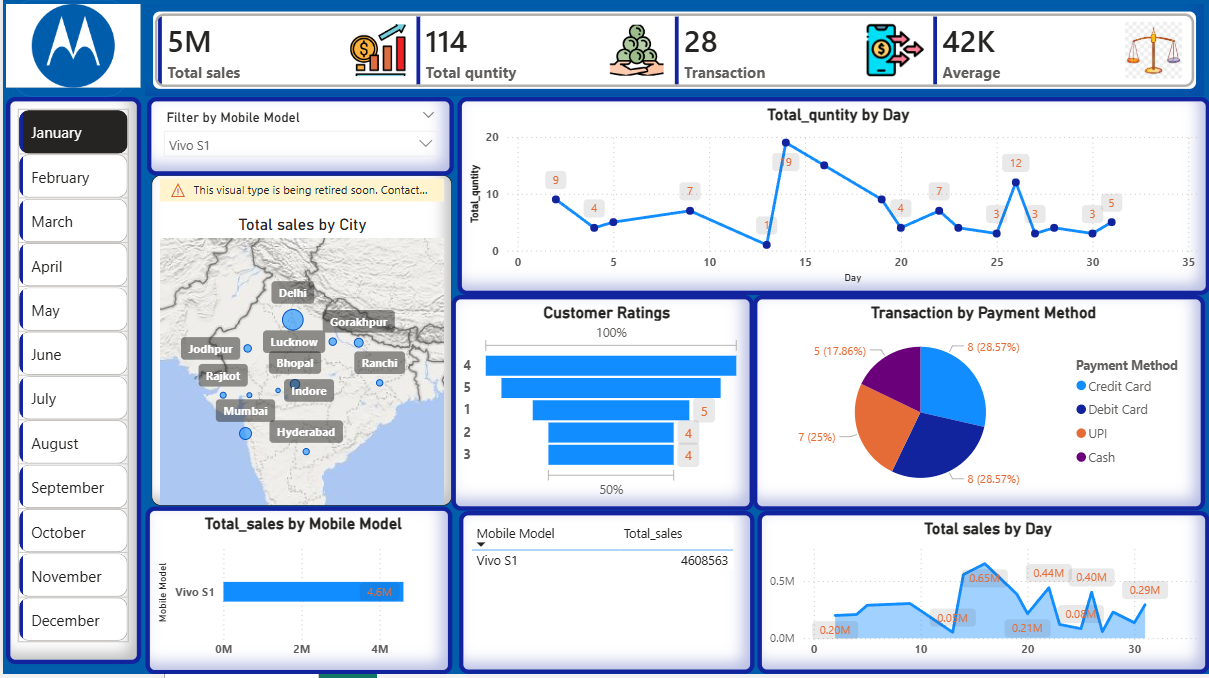

This screenshot's page, from the dashboard's own definition file:
{"tool":"powerbi","page":{"name":"mobile sale","canvas":[1280,720],"ordinal":0},"visuals":[{"type":"shape","box":[11.5,4.9,119.7,103.3],"z":0},{"type":"image","box":[3.3,9.8,142.6,88.5],"z":1000},{"type":"advancedSlicerVisual","fields":{"Values":["sales.Dates.Variation.Date Hierarchy.Month"]},"box":[3.2,108.2,143.2,601.3],"z":2000},{"type":"cardVisual","fields":{"Data":["sales.Total_sales","sales.Total_quntity","sales.Transaction","sales.Average"]},"box":[150.8,10.2,1122,98.3],"z":3000},{"type":"map","fields":{"Size":["sales.Total_sales"],"Category":["sales.City"]},"box":[157.6,191.5,318.6,350.8],"z":4000},{"type":"lineChart","fields":{"Category":["sales.Dates.Variation.Date Hierarchy.Month","sales.Dates.Variation.Date Hierarchy.Day"],"Y":["sales.Total_quntity"]},"box":[481.4,108.5,798.3,210.2],"z":5000},{"type":"clusteredBarChart","fields":{"Category":["sales.Mobile Model"],"Y":["sales.Total_sales"]},"box":[150.8,542.4,325.4,178],"z":6000},{"type":"pieChart","fields":{"Category":["sales.Payment Method"],"Y":["sales.Transaction"]},"box":[794.9,318.6,479.7,228.8],"z":7000},{"type":"funnel","title":"Customer Ratings ","fields":{"Category":["sales.Customer Ratings"],"Y":["CountNonNull(sales.Customer Ratings)"]},"box":[476.3,318.6,320.3,228.8],"z":8000},{"type":"areaChart","title":"Total sales by Day ","fields":{"Category":["sales.Dates.Variation.Date Hierarchy.Day"],"Y":["sales.Total_sales"]},"box":[800,547.5,479.7,172.9],"z":9000},{"type":"tableEx","fields":{"Values":["sales.Mobile Model","sales.Total_sales"]},"box":[483.1,547.5,313.6,172.9],"z":10000},{"type":"slicer","fields":{"Values":["sales.Mobile Model"]},"box":[152.5,108.5,325.4,83.1],"z":11000}]}

Visuals, with their boxes in screenshot pixels (x1, y1, x2, y2), scaled from the page's 1280x720 canvas onto the 1209x678 screenshot:
shape: (left=11, top=5, right=124, bottom=102)
image: (left=3, top=9, right=138, bottom=93)
advancedSlicerVisual - sales.Dates.Variation.Date Hierarchy.Month: (left=3, top=102, right=138, bottom=668)
cardVisual - sales.Total_sales x sales.Total_quntity: (left=142, top=10, right=1202, bottom=102)
map - sales.Total_sales x sales.City: (left=149, top=180, right=450, bottom=511)
lineChart - sales.Dates.Variation.Date Hierarchy.Month x sales.Dates.Variation.Date Hierarchy.Day: (left=455, top=102, right=1208, bottom=300)
clusteredBarChart - sales.Mobile Model x sales.Total_sales: (left=142, top=511, right=450, bottom=677)
pieChart - sales.Payment Method x sales.Transaction: (left=751, top=300, right=1204, bottom=515)
"Customer Ratings " funnel: (left=450, top=300, right=752, bottom=515)
"Total sales by Day " areaChart: (left=756, top=516, right=1208, bottom=677)
tableEx - sales.Mobile Model x sales.Total_sales: (left=456, top=516, right=753, bottom=677)
slicer - sales.Mobile Model: (left=144, top=102, right=451, bottom=180)
